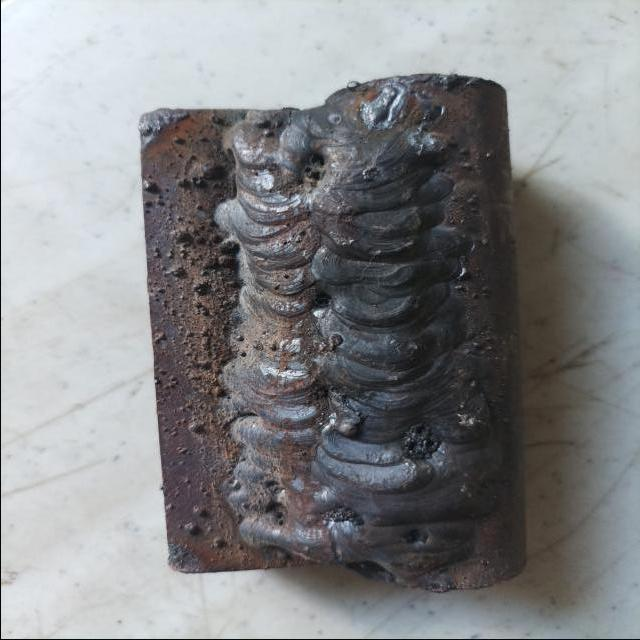defect: (396, 424, 445, 465), (259, 478, 290, 529), (318, 504, 366, 533), (294, 151, 331, 188), (308, 285, 339, 309), (396, 528, 429, 546), (357, 167, 385, 182)
